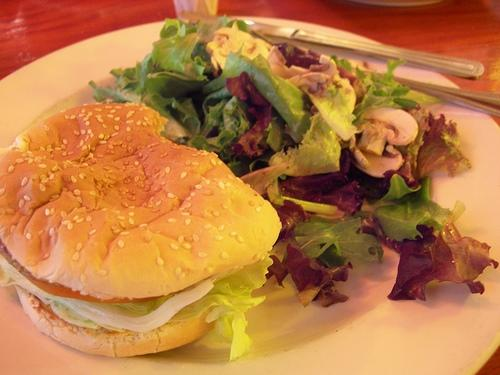lettuce: (202, 42, 314, 144), (174, 254, 272, 361), (387, 211, 499, 301), (332, 55, 420, 129), (278, 150, 366, 216), (266, 243, 352, 308), (374, 176, 449, 243), (293, 216, 384, 267), (270, 113, 341, 176), (226, 72, 272, 160), (414, 111, 474, 178), (300, 74, 359, 142), (143, 72, 210, 127), (109, 52, 162, 98), (272, 200, 316, 246), (152, 32, 199, 74), (200, 97, 230, 139), (196, 13, 227, 44), (222, 96, 242, 134)
mushroom: (202, 42, 314, 135), (206, 17, 269, 74), (356, 107, 418, 157), (352, 144, 403, 178), (288, 54, 337, 76), (340, 143, 370, 169), (298, 73, 332, 92)
tomato: (1, 238, 178, 304)
